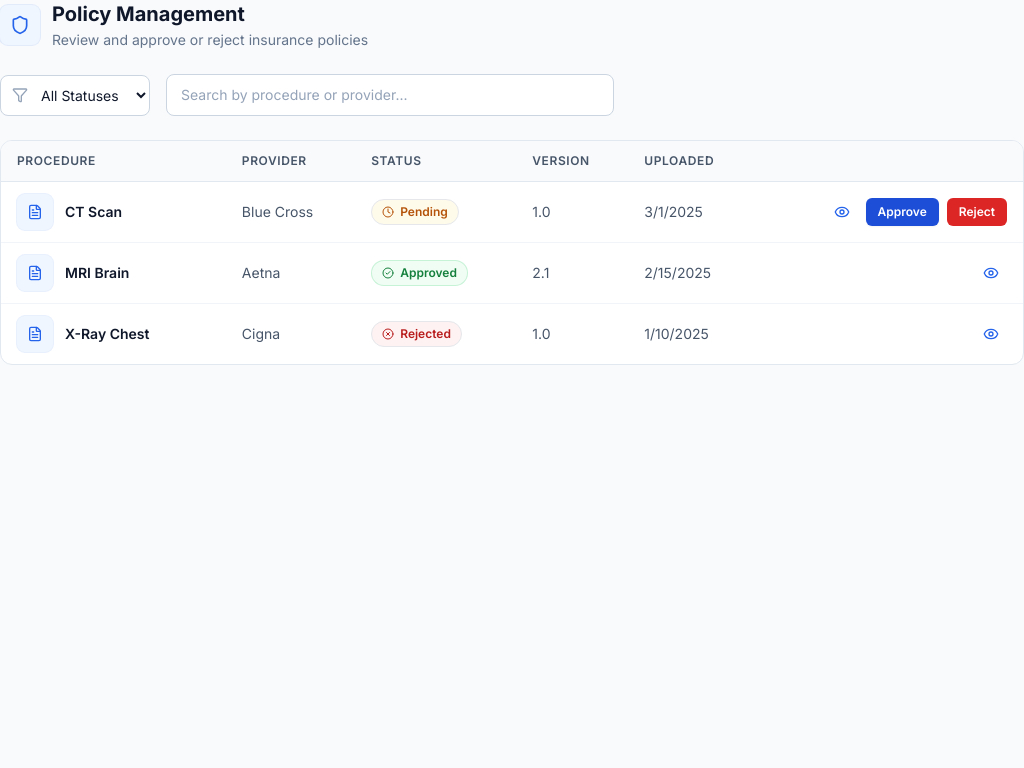
it: PolicyManagement › shows preview modal with policy content
Check: the text "CT Scan" is shown, box [65, 202, 122, 222]
Click the button titled "Preview" in the row of "CT Scan". click: (842, 212)
box: [826, 196, 858, 228]
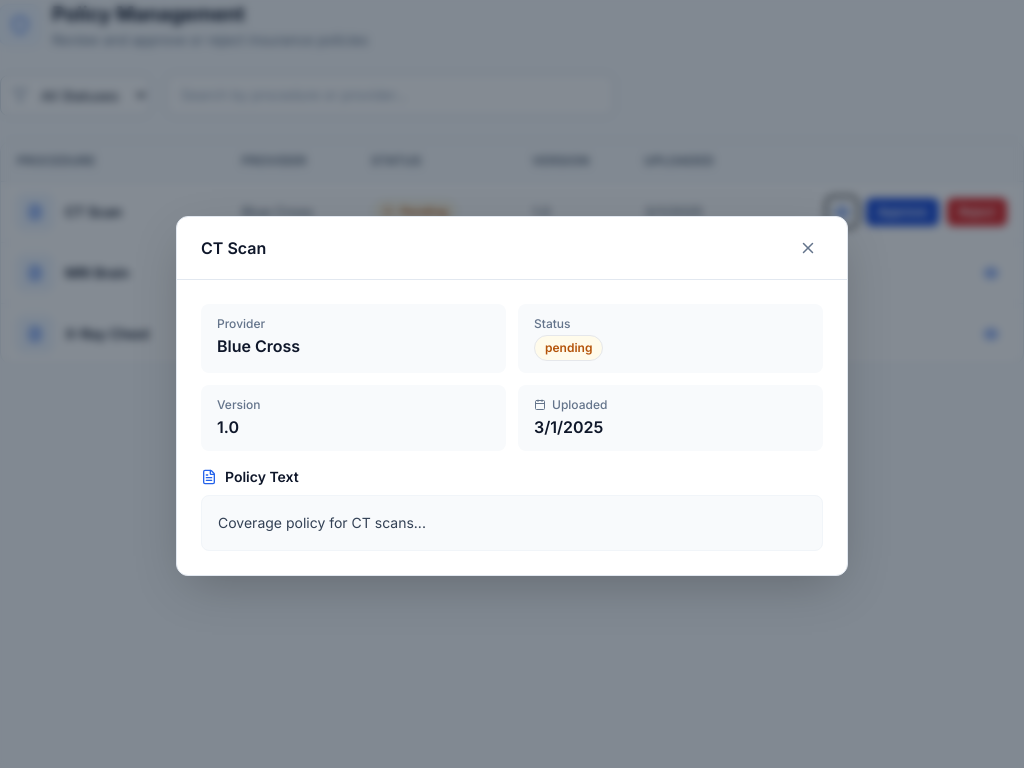
Check: the text "Coverage policy for CT scans..." is shown, box [218, 514, 426, 531]
